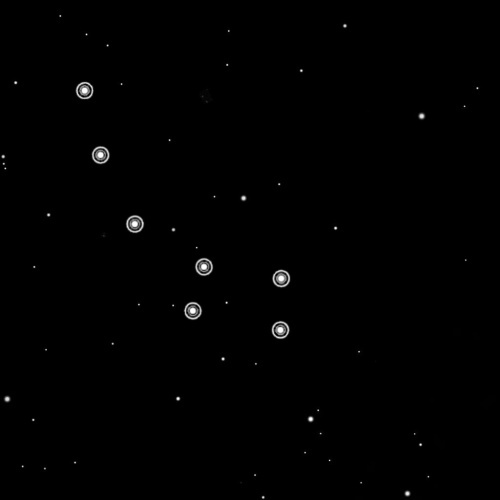ursa_minor: (72, 75, 295, 341)
